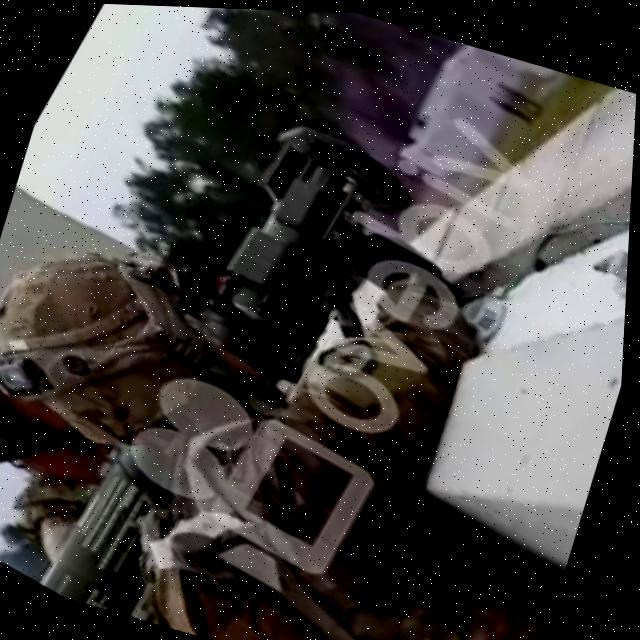rocket: (26, 74, 422, 640)
